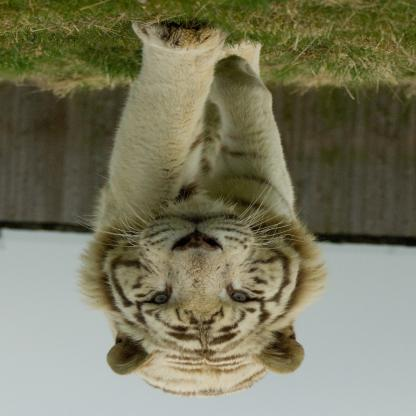tiger: (96, 202, 302, 374)
